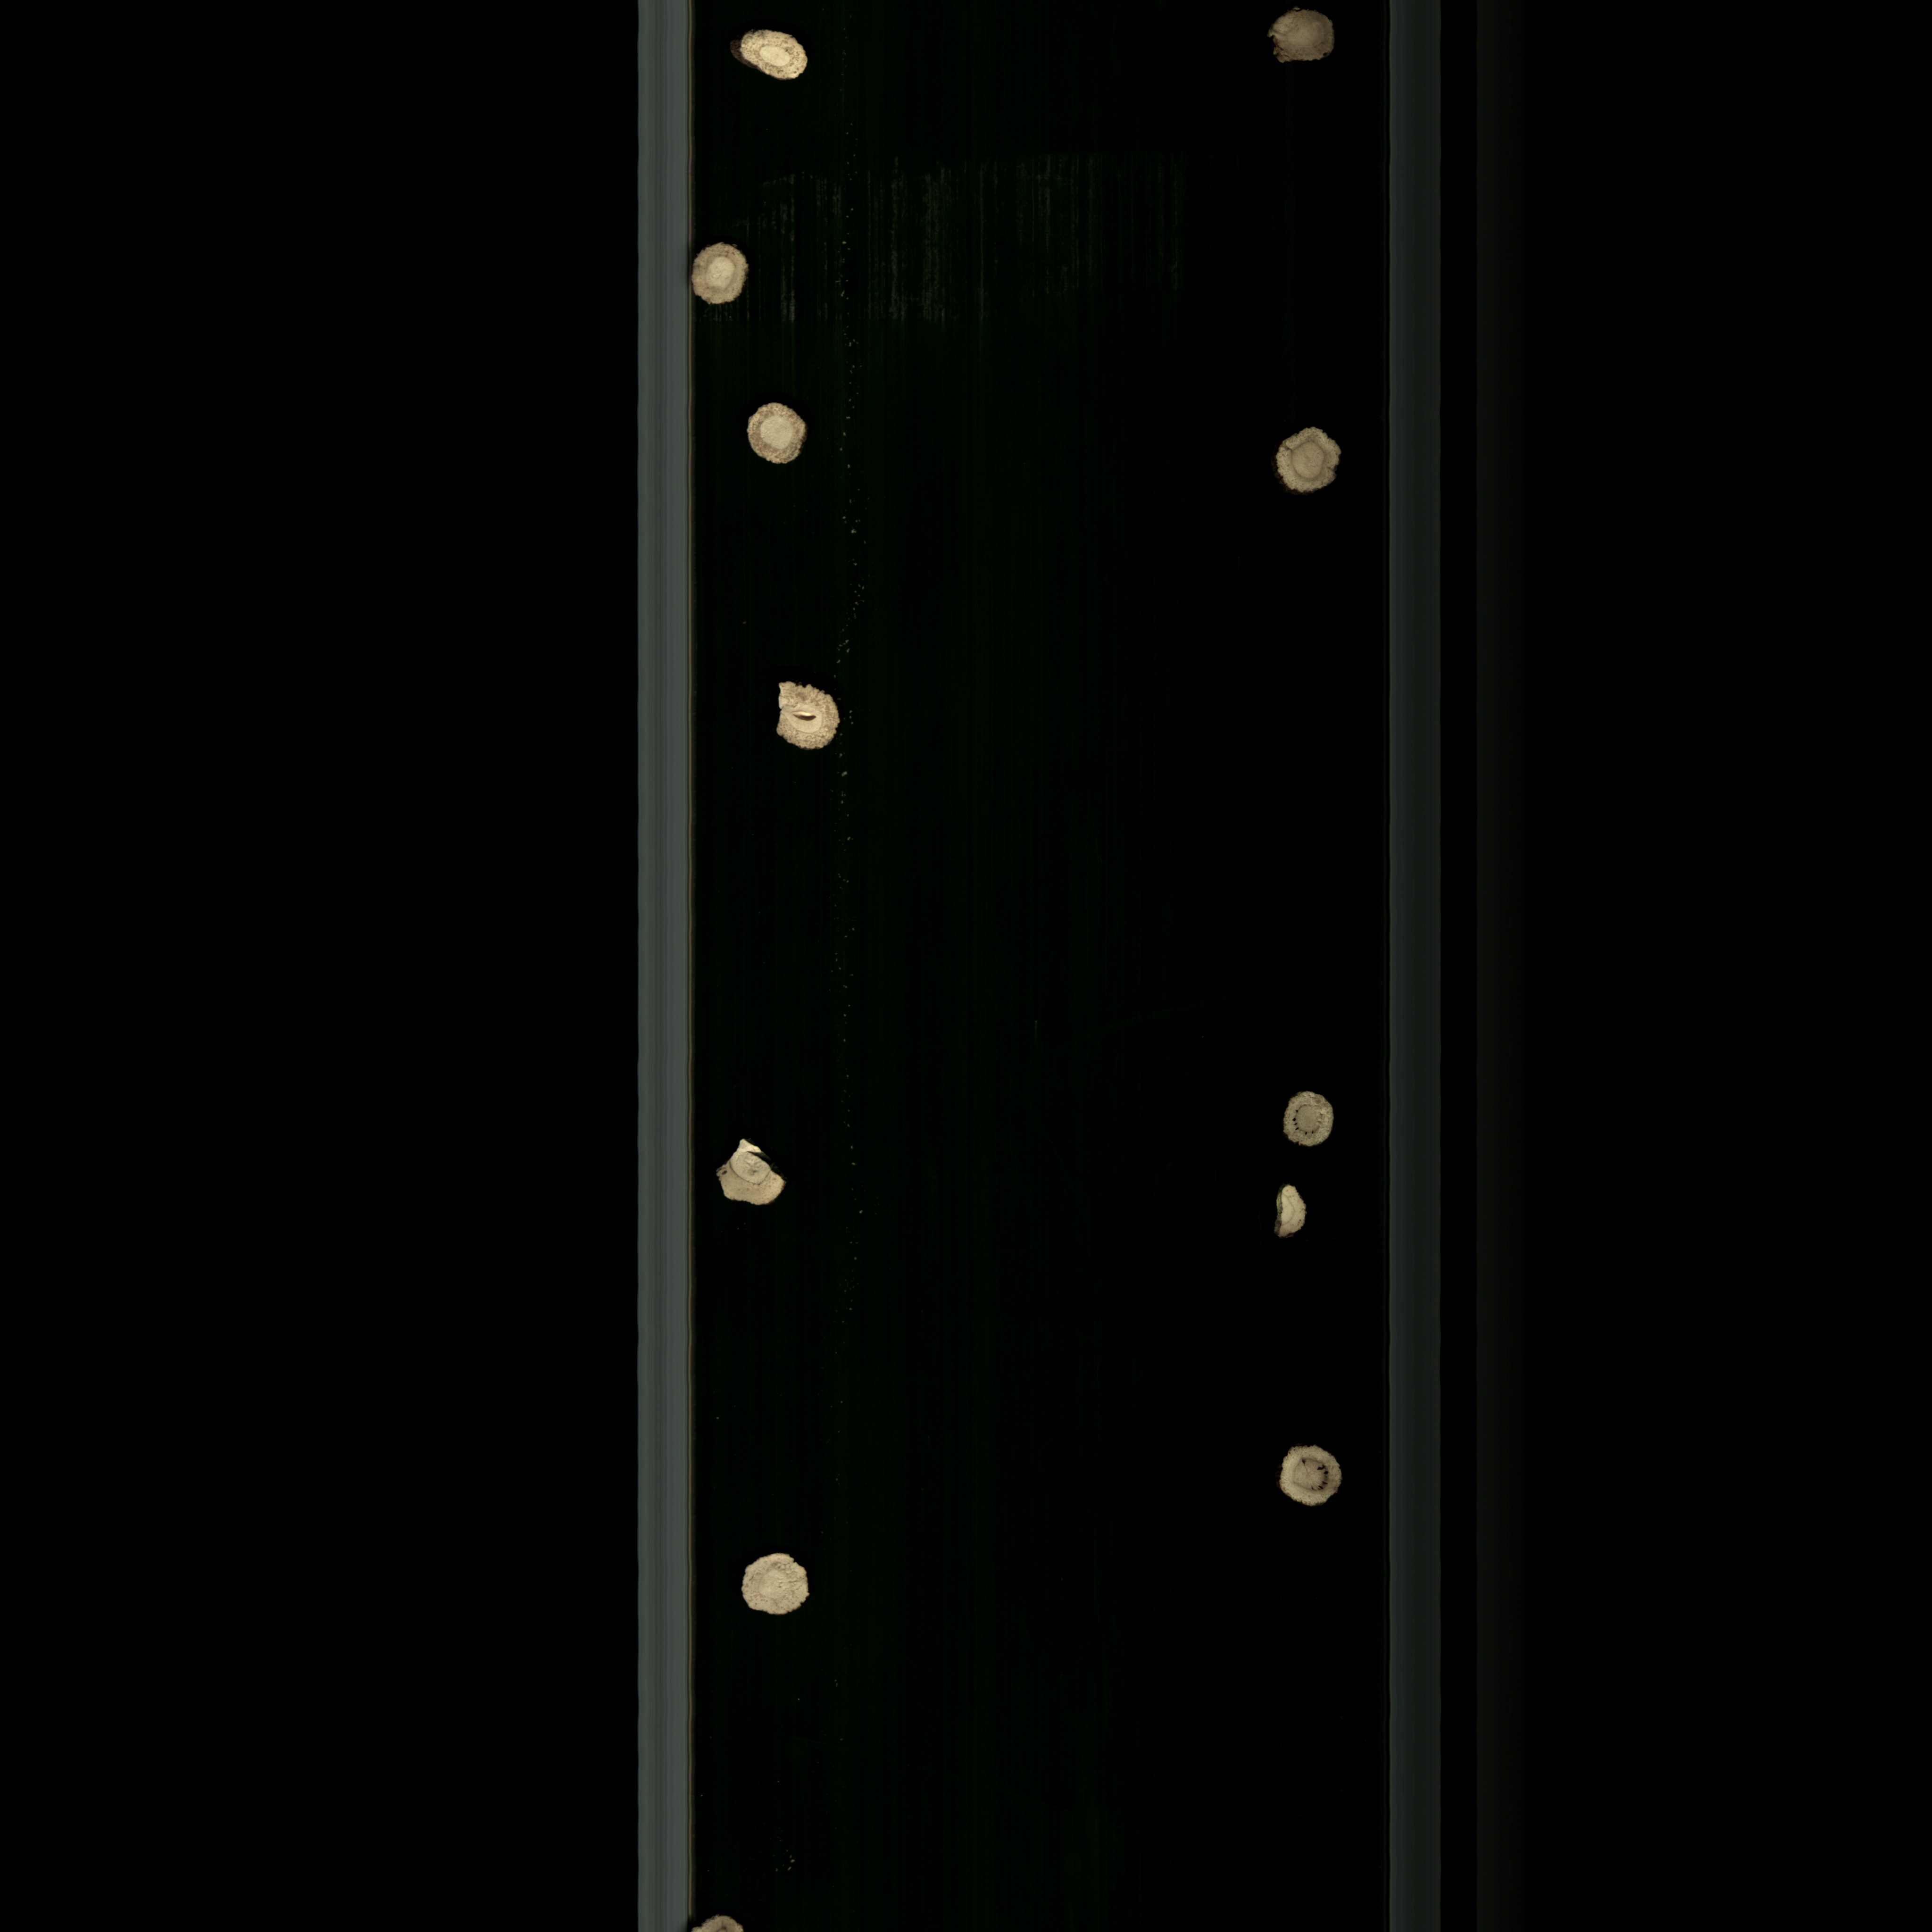debris: (757, 676, 849, 757), (711, 1131, 793, 1212)
distortion: (1258, 418, 1355, 501), (731, 25, 823, 97)
dreg: (1267, 1178, 1311, 1244)
hole: (1261, 1435, 1350, 1516), (1269, 1083, 1343, 1150)
moldy: (1256, 9, 1348, 74)
